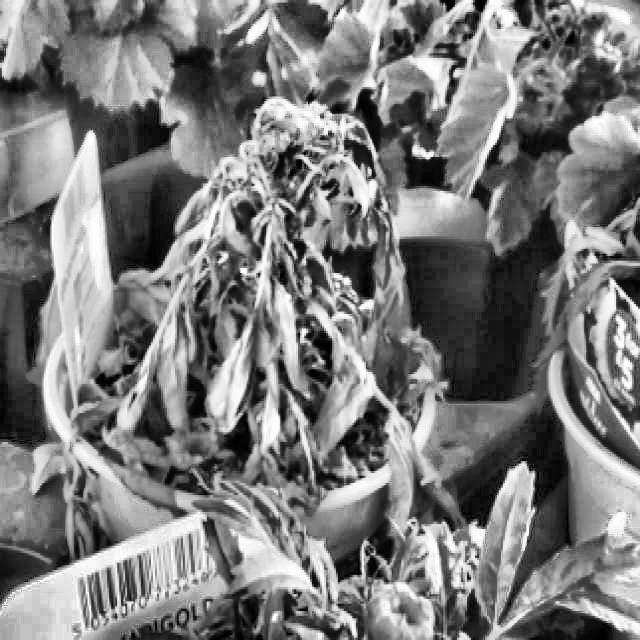plants: (119, 93, 456, 533)
